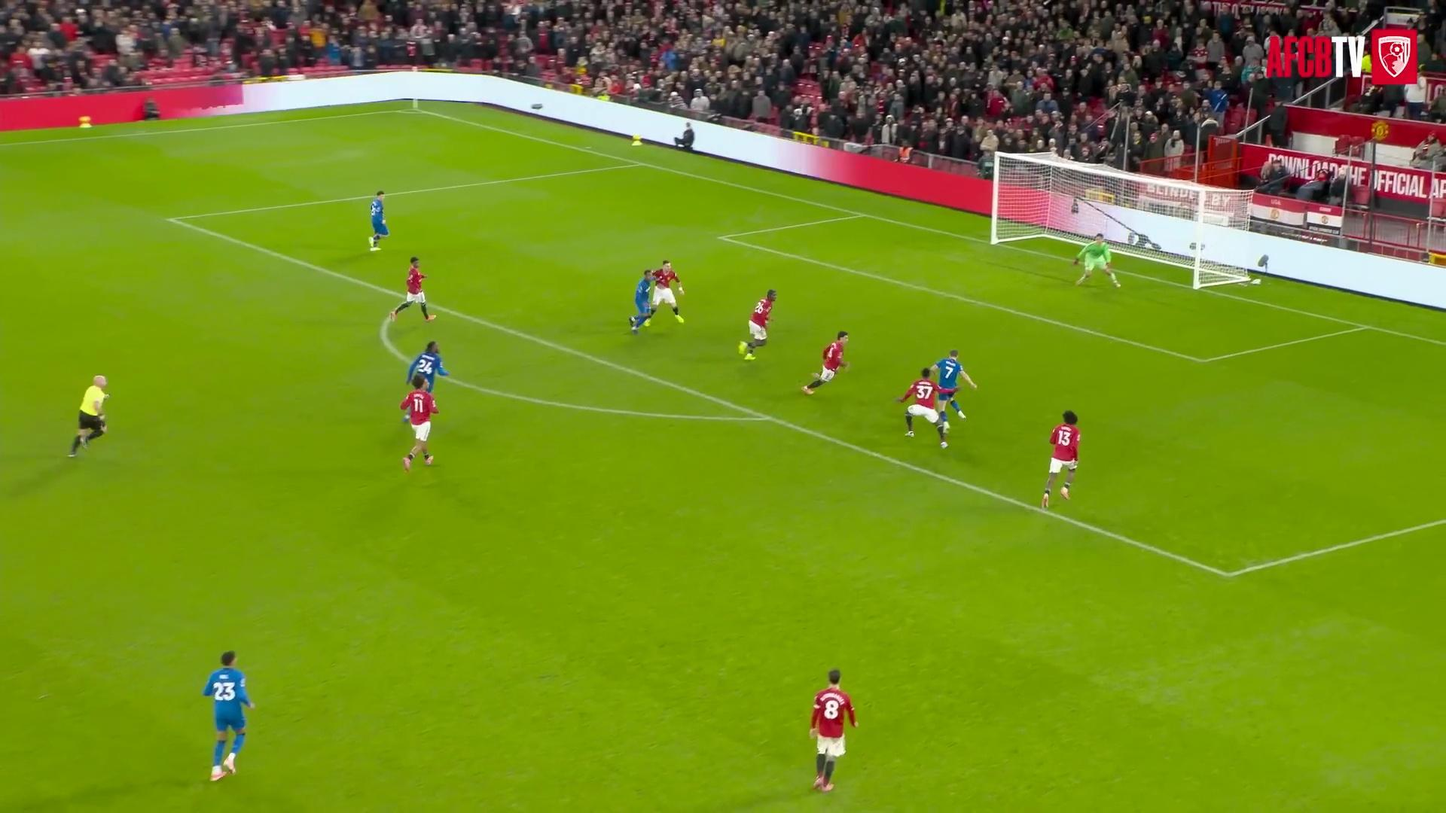player: (203, 650, 255, 781), (810, 668, 857, 792), (897, 368, 947, 447), (400, 373, 438, 470), (932, 350, 976, 431), (1042, 411, 1078, 508), (389, 257, 435, 321), (803, 331, 848, 394), (739, 290, 776, 360), (1073, 233, 1120, 287), (406, 341, 449, 391), (651, 260, 684, 322), (629, 269, 653, 333), (369, 190, 389, 250)
referee: (69, 376, 107, 457)
